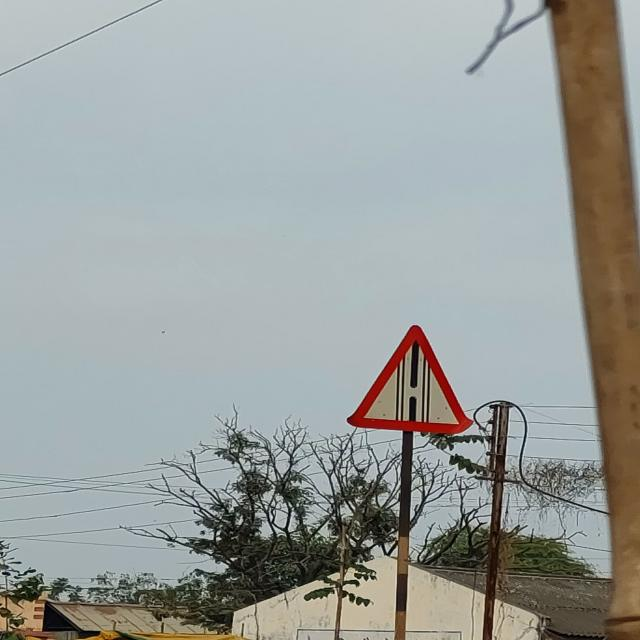GAP_IN_MEDIAN: (347, 328, 472, 435)
